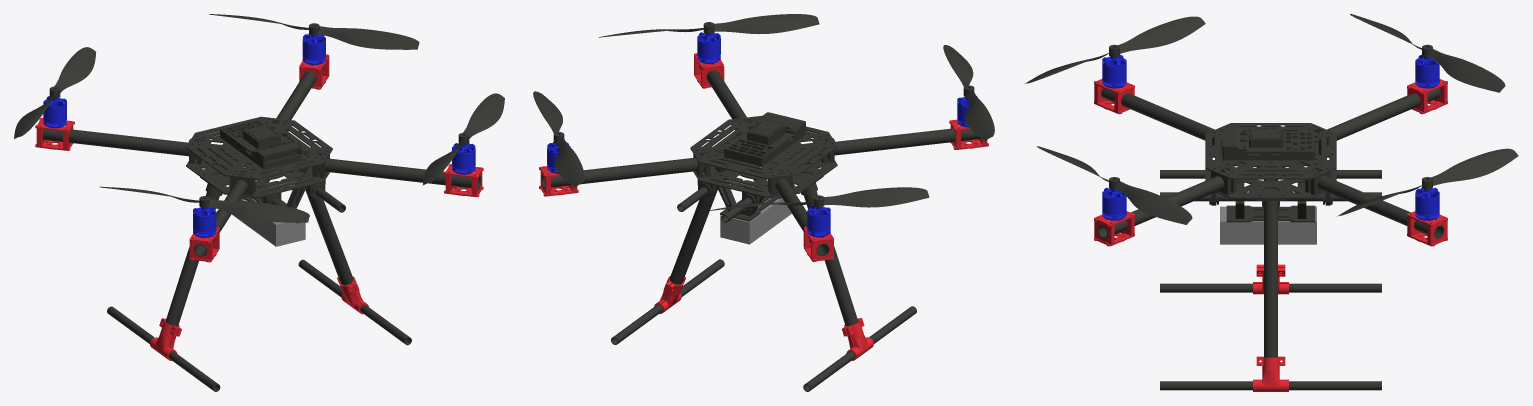
File: drone.fbx
3 renders of one model, left to right at view 1: azimuth 30°, elevation 25°; view 2: azimuth 150°, elevation 25°; view 3: azimuth 270°, elevation 25°, orthographic. The views are drawn at different scales.
Parts seen in each view (by area): view 1: Assembly.050, Assembly.009, Assembly.052, Assembly.051, Assembly.053; view 2: Assembly.050, Assembly.053, Assembly.051, Assembly.009, Assembly.052; view 3: Assembly.050, Assembly.009, Assembly.052, Assembly.053, Assembly.051.
Boxes of the visible parts, x1,y1,x2,y2 form: Assembly.050: (35, 33, 483, 391); Assembly.009: (99, 186, 309, 222); Assembly.052: (209, 14, 419, 49); Assembly.051: (422, 93, 504, 185); Assembly.053: (14, 47, 96, 138); Assembly.050: (539, 32, 988, 391); Assembly.053: (709, 187, 929, 210); Assembly.051: (599, 14, 819, 37); Assembly.009: (943, 45, 994, 140); Assembly.052: (533, 91, 584, 187); Assembly.050: (1094, 54, 1447, 391); Assembly.009: (1025, 16, 1205, 83); Assembly.052: (1337, 148, 1518, 216); Assembly.053: (1350, 14, 1505, 92); Assembly.051: (1036, 146, 1192, 224).
Size of the model in its own units: 55.87 by 28.58 by 55.87.
